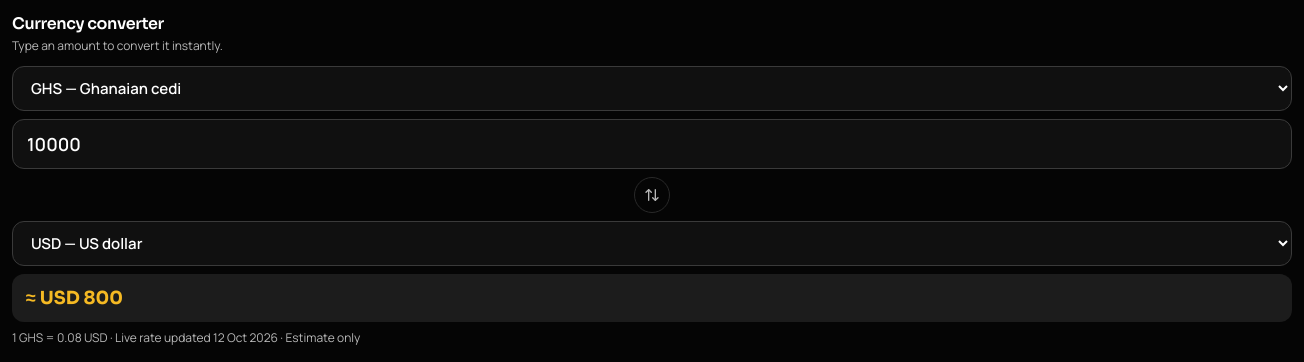
Scenario: CurrencyConverter › converts between two foreign currencies and swaps direction
Expected: the text "≈ USD 800" is shown, [12, 274, 1292, 322]
Replace the text in the number field named "Amount" with "100" at (652,144), box [12, 119, 1292, 169]
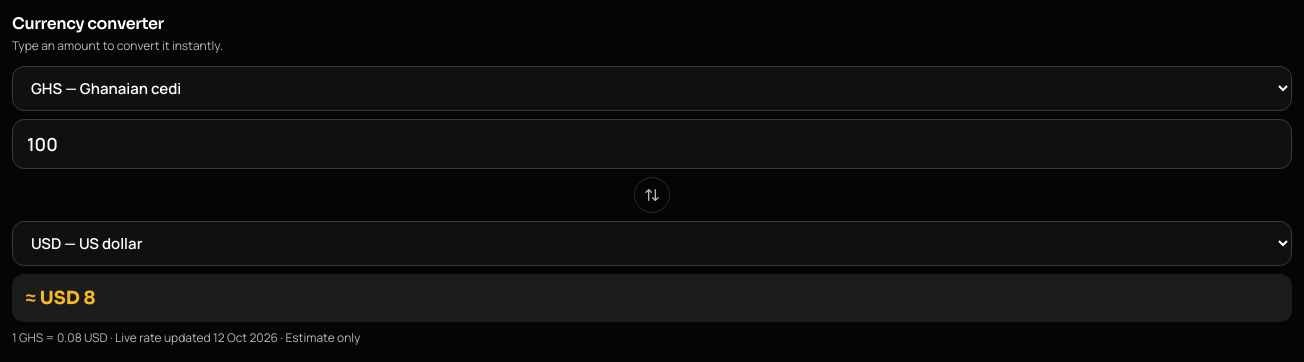
Select "USD — US dollar" in the 1st dropdown named "From currency" at (652,88), box [12, 66, 1292, 111]
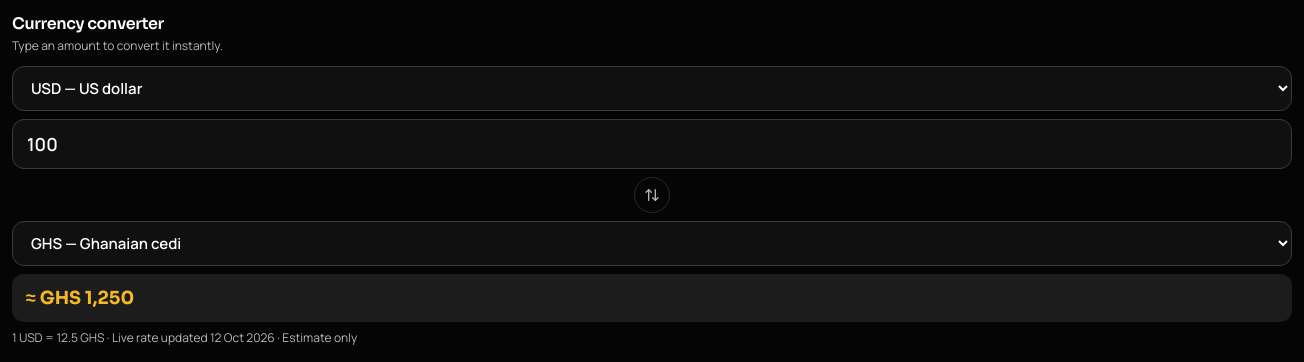
Select "NGN — Nigerian naira" in the 2nd dropdown named "To currency" at (652,244), box [12, 221, 1292, 266]
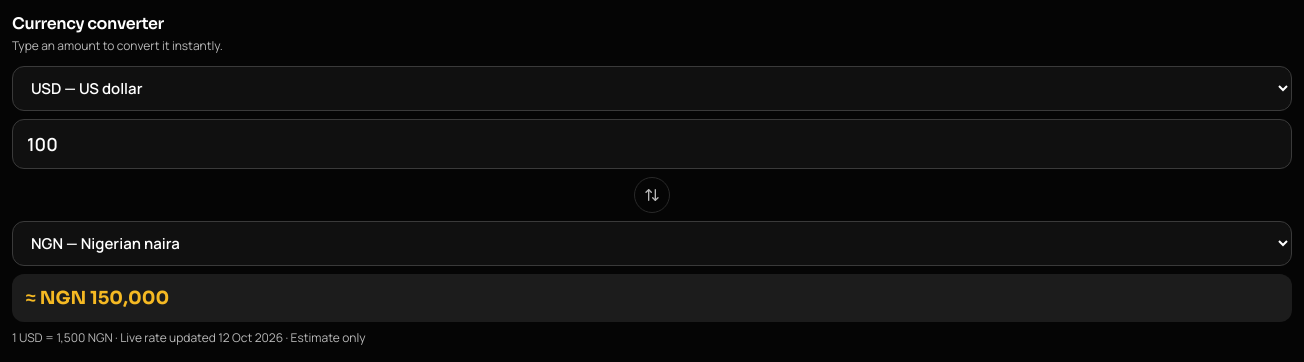
Result: the text "≈ NGN 150,000" is shown at [12, 274, 1292, 322]
Click the button named "Swap currencies" at (652,195), box [634, 177, 670, 213]
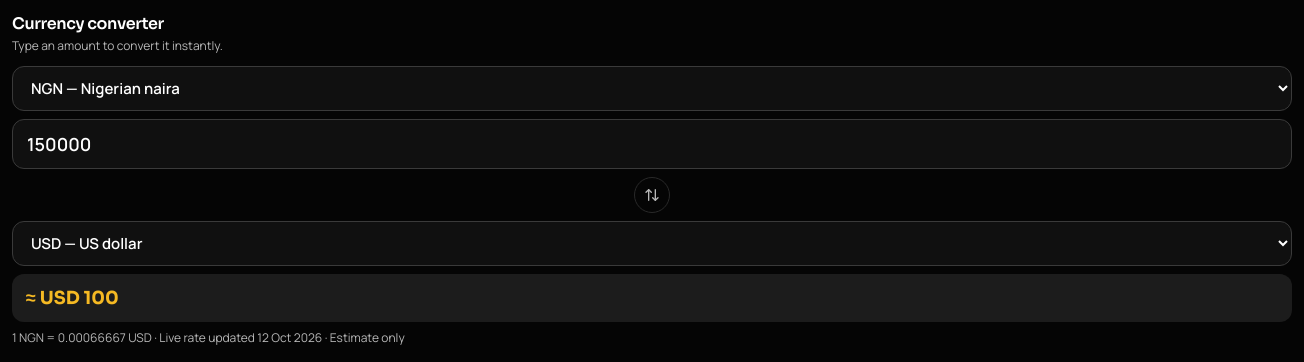
Result: the number field named "Amount" holds "150000" at [12, 119, 1292, 169]
Result: the text "≈ USD 100" is shown at [12, 274, 1292, 322]
